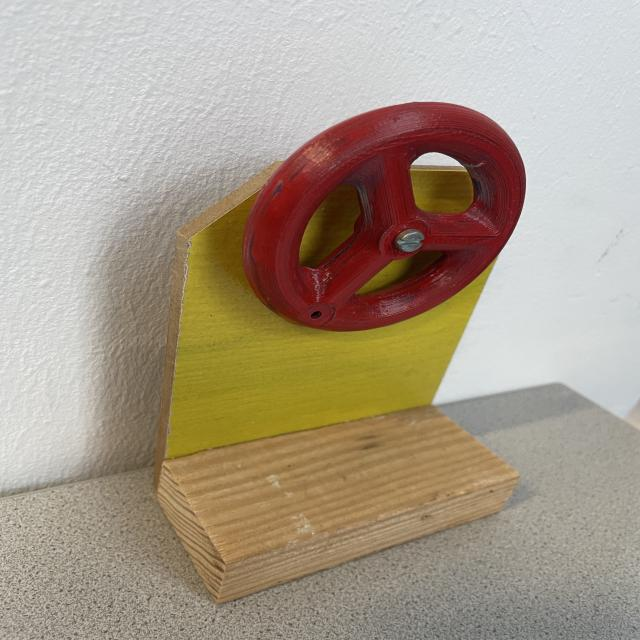Wheel Handle Valve Threaded: (240, 100, 527, 332)
